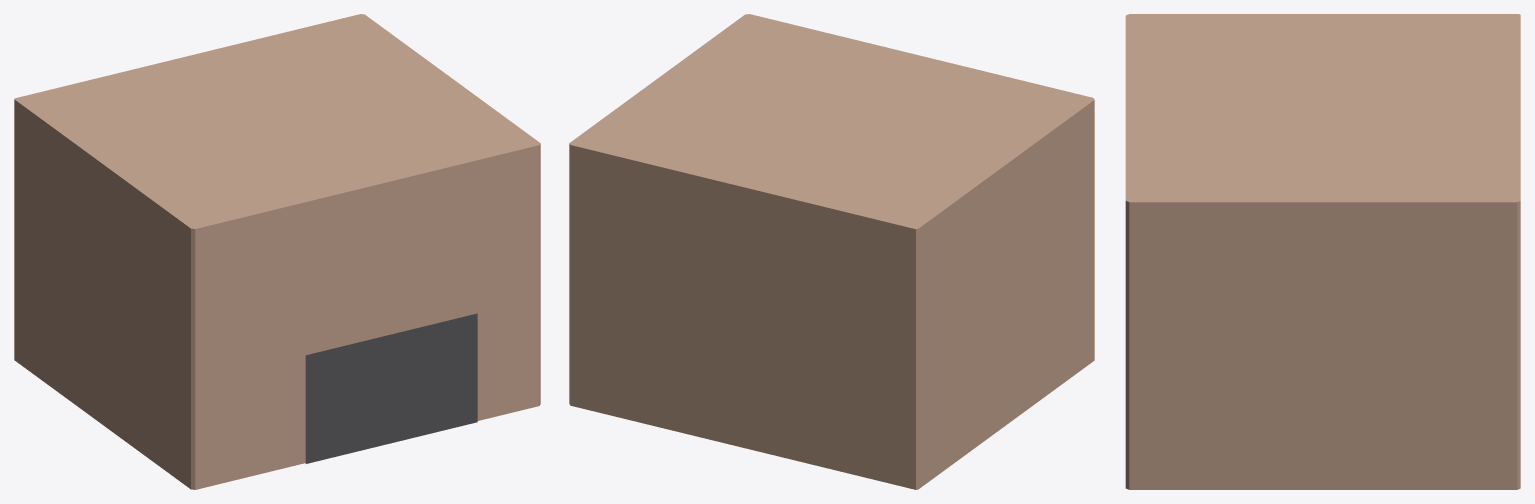
File: loin-etape-1.glb
The picture shows the model from 3 angles, left to right: view 1: azimuth 30°, elevation 25°; view 2: azimuth 150°, elevation 25°; view 3: azimuth 270°, elevation 25°; orthographic projection. The views are drawn at different scales.
Visible parts, largest first — view 1: loin; view 2: loin; view 3: loin.
Boxes of the visible parts, <box> form: loin: <box>14,14,540,489</box>; loin: <box>569,14,1094,489</box>; loin: <box>1125,14,1520,489</box>.
Size of the model in its own units: 0.678 by 0.4833 by 0.6051.
